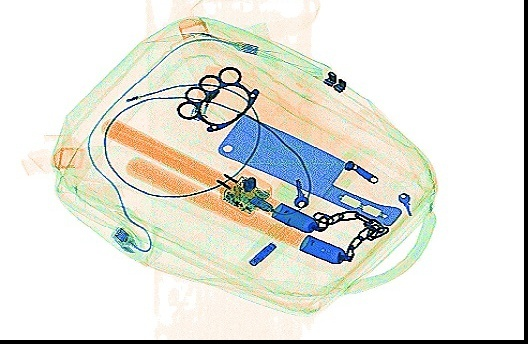knife: (211, 111, 404, 228)
lighter: (184, 62, 222, 123)
